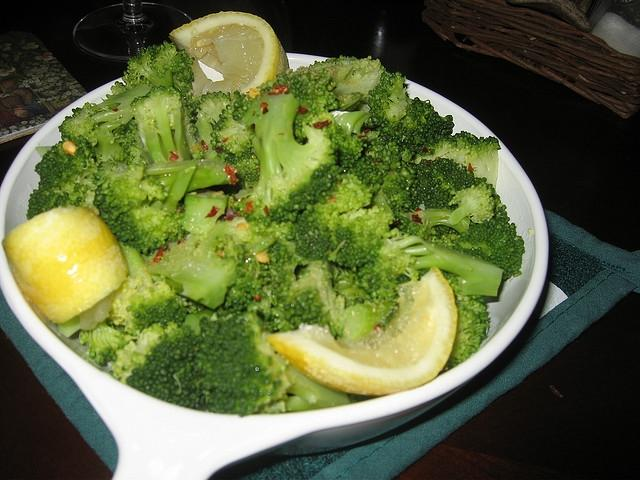broccoli: (194, 311, 350, 416), (232, 93, 343, 226), (354, 227, 504, 302), (140, 218, 240, 310), (108, 241, 198, 336), (108, 162, 197, 255), (285, 170, 373, 262), (262, 259, 346, 338), (58, 84, 151, 149), (411, 158, 486, 238), (260, 68, 338, 142), (439, 268, 492, 372), (376, 97, 458, 164), (145, 152, 260, 196), (332, 206, 395, 269), (130, 86, 182, 162), (440, 130, 500, 190), (94, 164, 148, 226), (314, 111, 372, 168), (26, 176, 100, 220), (34, 135, 96, 187), (376, 139, 420, 212), (126, 40, 186, 89), (367, 70, 412, 132), (210, 104, 256, 159), (262, 239, 306, 294), (332, 56, 386, 99), (80, 320, 128, 366), (182, 190, 230, 236), (95, 122, 148, 163), (448, 181, 496, 225), (330, 263, 373, 308), (350, 151, 390, 188), (198, 90, 232, 125), (452, 229, 496, 256), (111, 81, 128, 95)
lemon: (268, 268, 459, 396), (1, 204, 130, 324), (166, 11, 286, 96)
